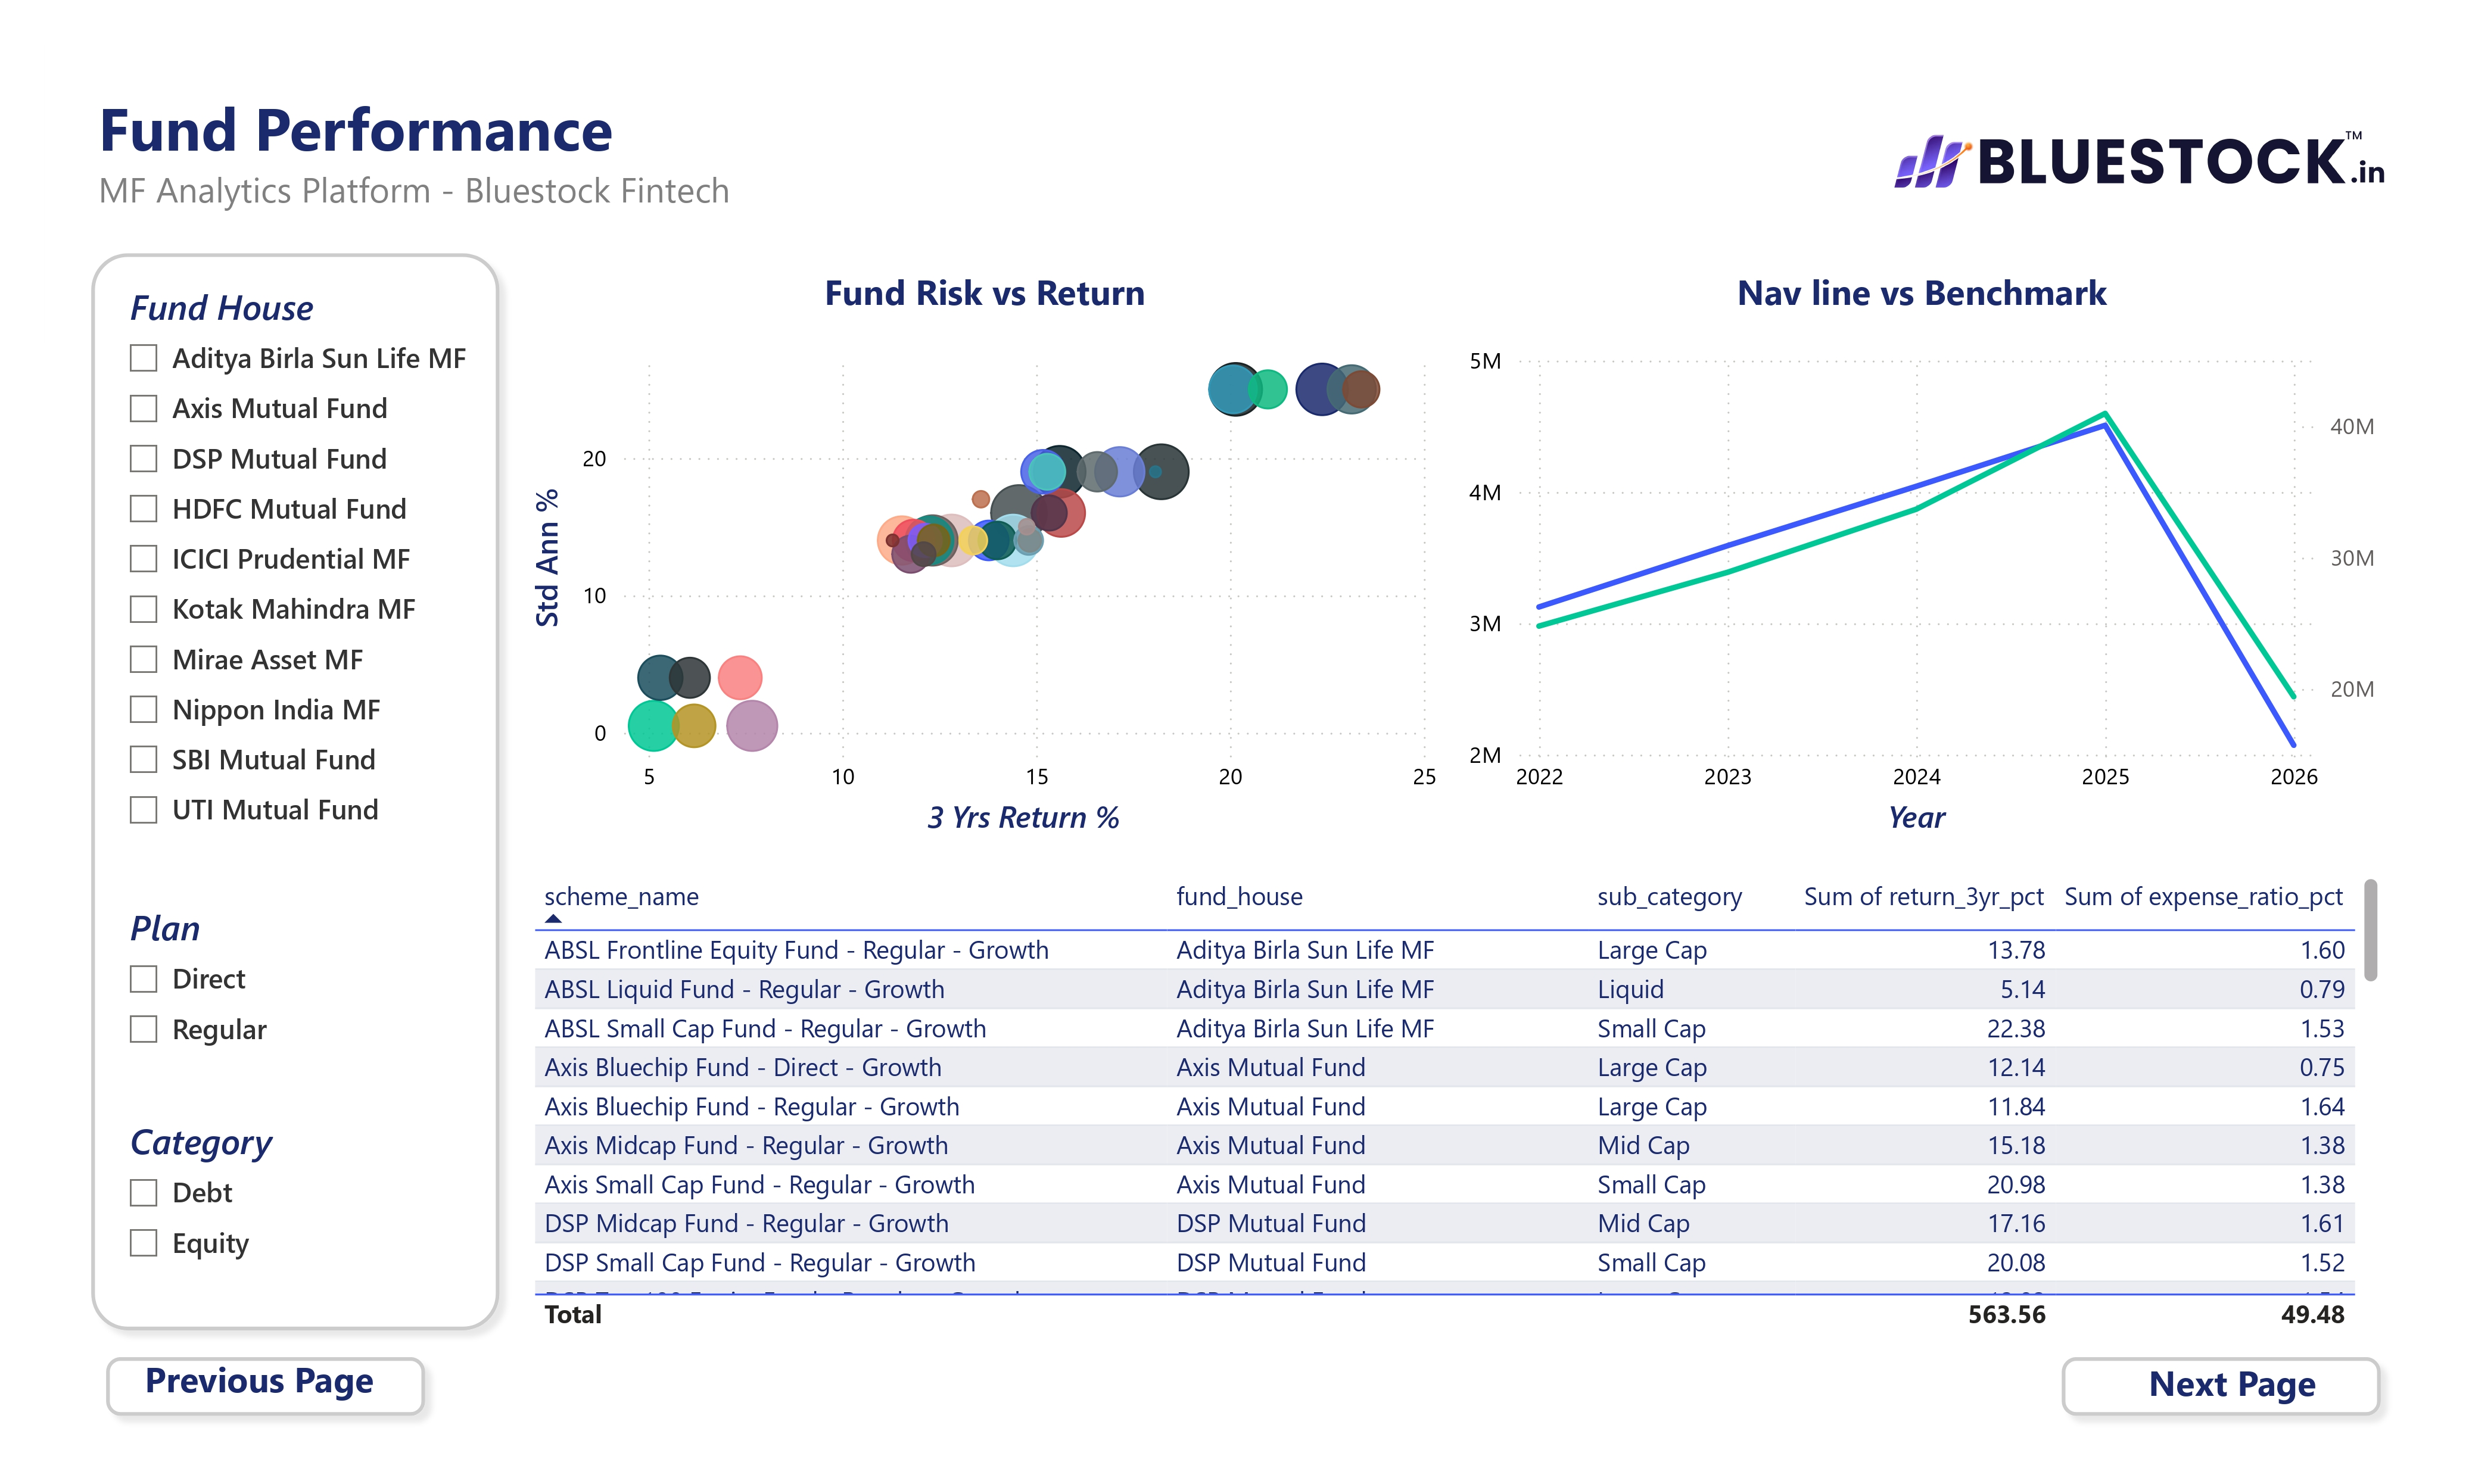

What the dashboard file says about the page in this screenshot:
{"tool":"powerbi","page":{"name":"Fund Performance","canvas":[1280,750],"ordinal":1},"visuals":[{"type":"shape","box":[16,104,236,596],"z":0},{"type":"scatterChart","title":"Fund Risk vs Return","fields":{"Series":["dim_fund.scheme_name"],"Size":["Sum(fact_performance.aum_crore)"],"X":["Sum(fact_performance.return_3yr_pct)"],"Y":["Sum(fact_performance.std_dev_ann_pct)"]},"box":[256.7,120,496.7,310],"z":1000},{"type":"tableEx","fields":{"Values":["dim_fund.scheme_name","dim_fund.fund_house","dim_fund.sub_category","Sum(fact_performance.return_3yr_pct)","Sum(fact_performance.expense_ratio_pct)"]},"box":[256.7,443.3,1003.3,255],"z":2000},{"type":"lineChart","title":"Nav line vs Benchmark","fields":{"Category":["dim_date.full_date.Variation.Date Hierarchy.Year"],"Y":["Sum(fact_nav.nav)"],"Y2":["Sum(fact_benchmark.close_value)"]},"box":[760,120,498.3,310],"z":3000},{"type":"slicer","fields":{"Values":["dim_fund.fund_house"]},"box":[31.7,123.3,206.7,333.3],"z":4000},{"type":"slicer","fields":{"Values":["dim_fund.category"]},"box":[32,572,192,98],"z":5000},{"type":"slicer","fields":{"Values":["dim_fund.plan"]},"box":[31.7,456.7,191.7,98.3],"z":6000},{"type":"image","box":[993.3,8.8,266.7,105],"z":7000},{"type":"textbox","box":[23.3,17.1,496.7,83.3],"z":8000},{"type":"shape","box":[1076,698,188,48],"z":9000},{"type":"shape","box":[24,698,188,48],"z":10000},{"type":"textbox","box":[48,700,154,42],"z":11000},{"type":"textbox","box":[1126,702,122,48],"z":12000},{"type":"actionButton","box":[1114,702,134,40],"z":13000},{"type":"actionButton","box":[32,700,170,42],"z":14000}]}

Visuals, with their boxes on the page's 1280x750 design canvas (x1, y1, x2, y2). These are canvas units, not pixel positions in the 2472x1484 screenshot, which may show the page scaled, cropped or inside an application window:
shape: locate(16, 104, 252, 700)
"Fund Risk vs Return" scatterChart: locate(257, 120, 753, 430)
tableEx - dim_fund.scheme_name x dim_fund.fund_house: locate(257, 443, 1260, 698)
"Nav line vs Benchmark" lineChart: locate(760, 120, 1258, 430)
slicer - dim_fund.fund_house: locate(32, 123, 238, 457)
slicer - dim_fund.category: locate(32, 572, 224, 670)
slicer - dim_fund.plan: locate(32, 457, 223, 555)
image: locate(993, 9, 1260, 114)
textbox: locate(23, 17, 520, 100)
shape: locate(1076, 698, 1264, 746)
shape: locate(24, 698, 212, 746)
textbox: locate(48, 700, 202, 742)
textbox: locate(1126, 702, 1248, 750)
actionButton: locate(1114, 702, 1248, 742)
actionButton: locate(32, 700, 202, 742)
